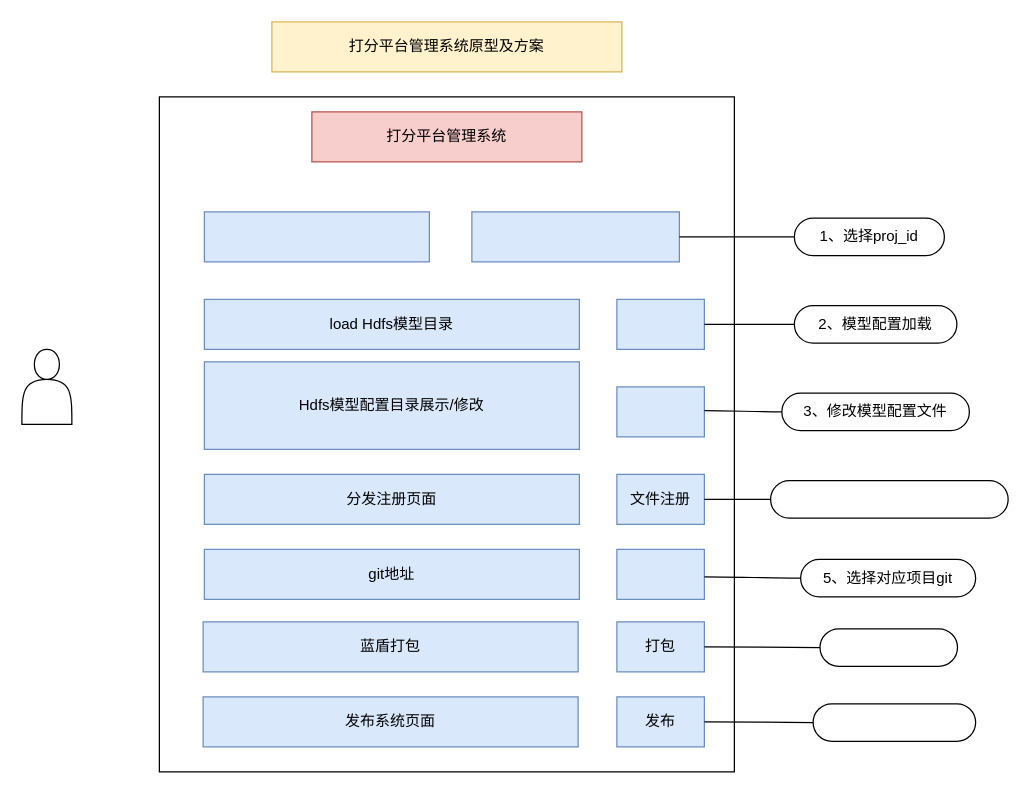
Image size: 1030x794. Some labels were removed from this diagram. The box of each missing label's shape, as (x1, y1, x2, y2) in pixels:
4、模型配置注册/Dense注册: (769, 479, 1008, 518)
6、蓝盾打包: (819, 628, 958, 666)
7、发布上线/灰度: (812, 702, 976, 741)
Load: (616, 298, 704, 349)
Save: (616, 386, 704, 437)
服务详细信息: (471, 211, 679, 262)
选择git项目: (616, 548, 704, 599)
选择proj_id: (203, 211, 429, 262)
